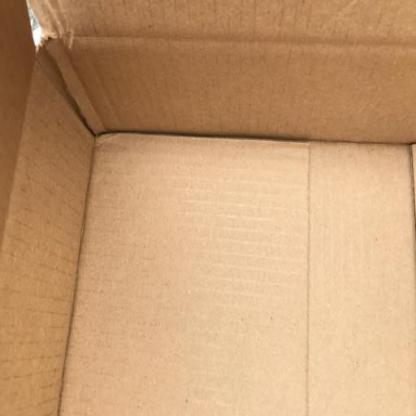CARDBOARD: (0, 0, 415, 415), (56, 130, 415, 415)
